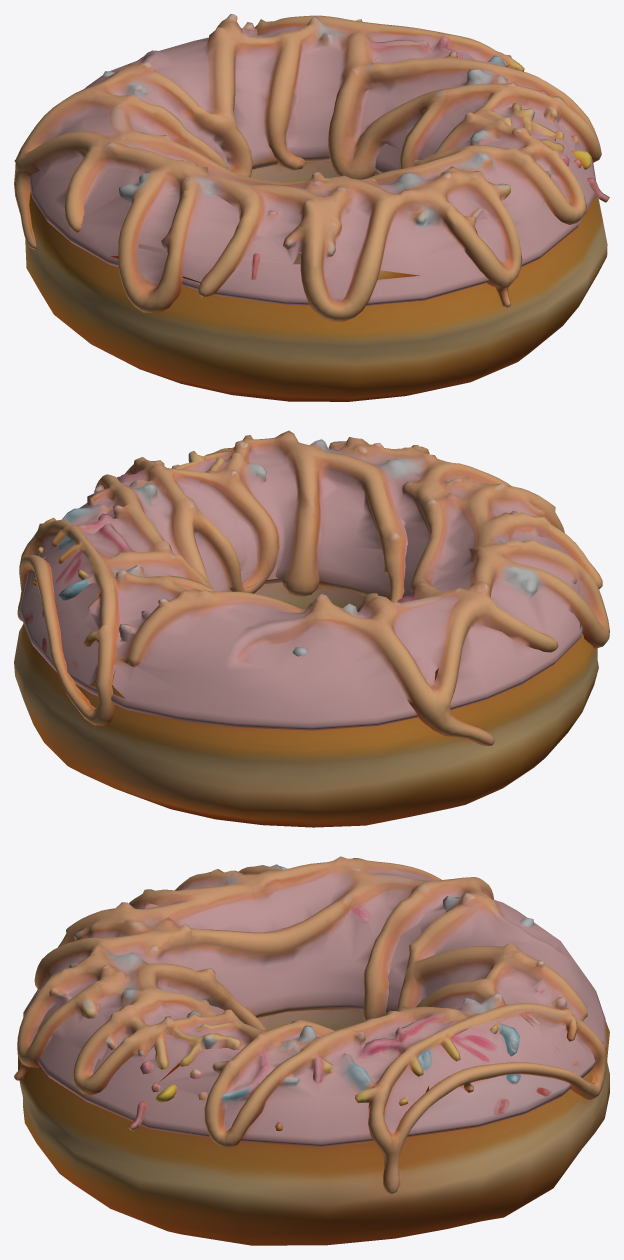
File: Pink_Frosted_Donut_With_Sprinkles-climax.glb
3 renders of one model, top to bottom at view 1: azimuth 30°, elevation 25°; view 2: azimuth 150°, elevation 25°; view 3: azimuth 270°, elevation 25°, orthographic.
Parts seen in each view (by area): view 1: Pink_Frosted_Donut_With_Sprinkles; view 2: Pink_Frosted_Donut_With_Sprinkles; view 3: Pink_Frosted_Donut_With_Sprinkles.
Part boxes in pixels (<box>): Pink_Frosted_Donut_With_Sprinkles: <box>14,14,609,401</box>; Pink_Frosted_Donut_With_Sprinkles: <box>14,430,609,827</box>; Pink_Frosted_Donut_With_Sprinkles: <box>14,856,609,1245</box>.
Bounding box in the file's own units: 0.979 × 0.4077 × 0.9995.
Materials: 1 (1 with a texture image).
